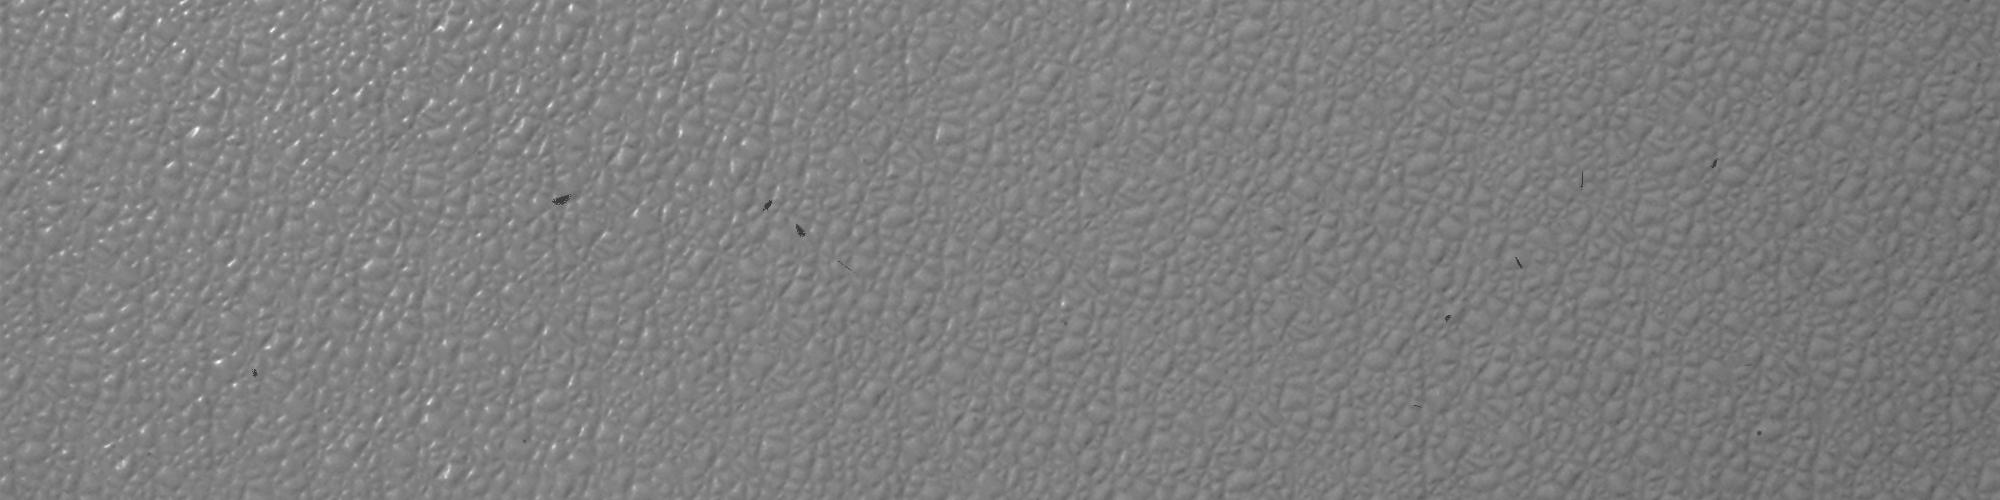Decomposed: (547, 186, 577, 219), (1571, 163, 1599, 194), (839, 254, 858, 283), (1437, 309, 1460, 330), (750, 195, 772, 217), (1503, 256, 1526, 277), (788, 222, 815, 239), (242, 364, 263, 381), (1409, 395, 1426, 415)
